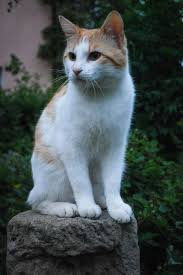cat: (26, 14, 136, 224)
